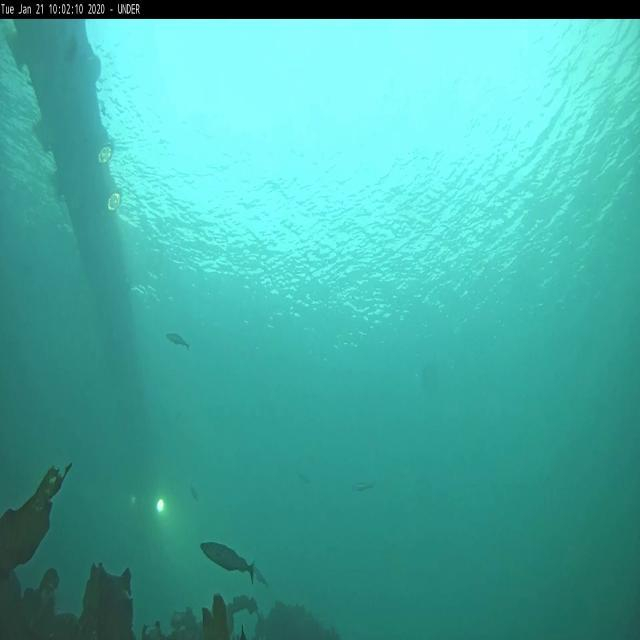fish: (200, 537, 256, 585), (165, 332, 190, 351), (351, 481, 376, 491)
